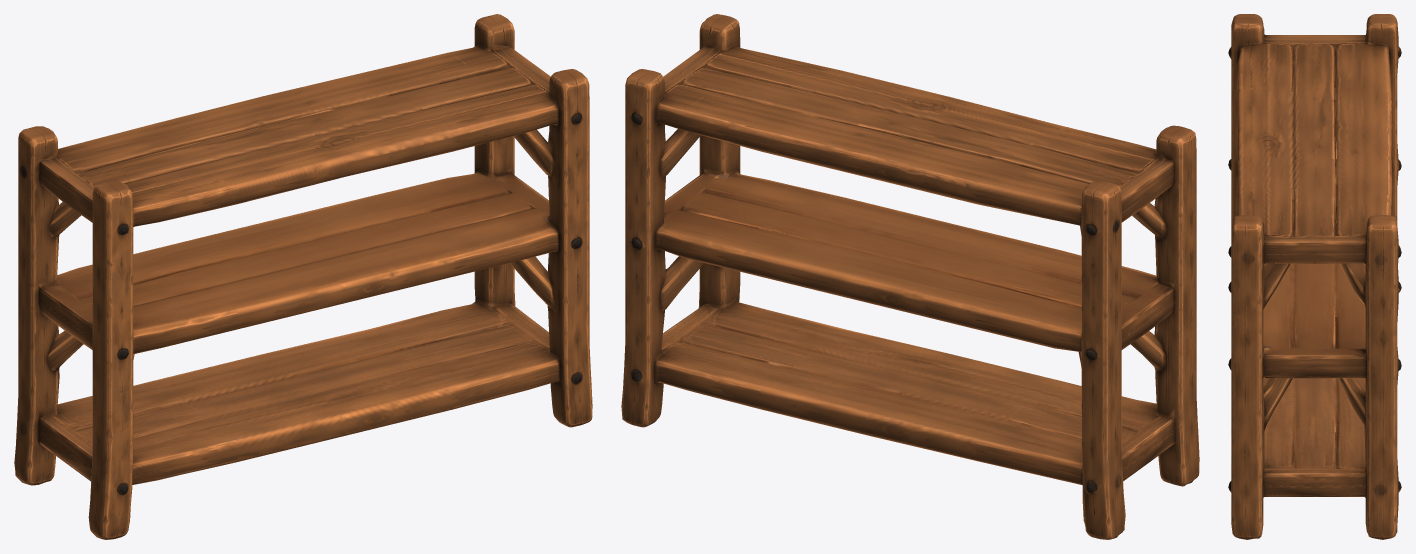
File: shelf.glb
3 views of the same model, side by side, from view 1: azimuth 30°, elevation 25°; view 2: azimuth 150°, elevation 25°; view 3: azimuth 270°, elevation 25° (orthographic). The views are drawn at different scales.
Size of the model in its own units: 1.91 by 1.28 by 0.6419.
Materials: 1 (1 with a texture image).
